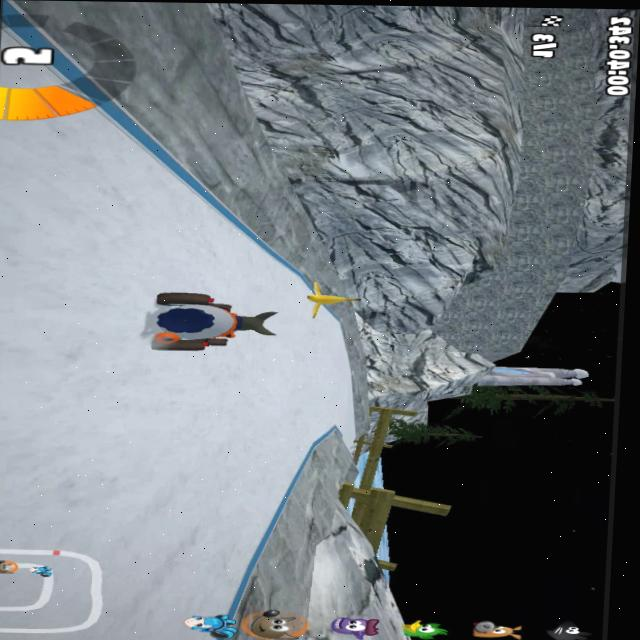obstacle: (291, 274, 359, 327)
player_kart: (154, 296, 277, 349)
track: (0, 140, 172, 638), (145, 462, 231, 640), (172, 351, 301, 463), (170, 461, 249, 578), (160, 241, 287, 293), (297, 331, 346, 427), (150, 366, 193, 457), (165, 198, 241, 239), (232, 464, 280, 505), (326, 372, 362, 415), (333, 418, 367, 452)
